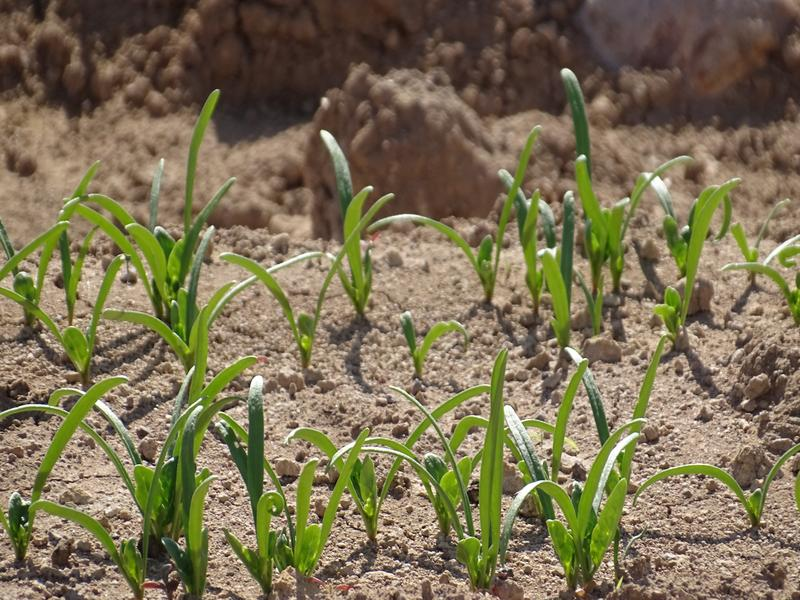Espinaca: (17, 375, 686, 582), (434, 75, 798, 344), (2, 85, 217, 365), (320, 127, 386, 335), (219, 250, 319, 358), (696, 441, 796, 525)
